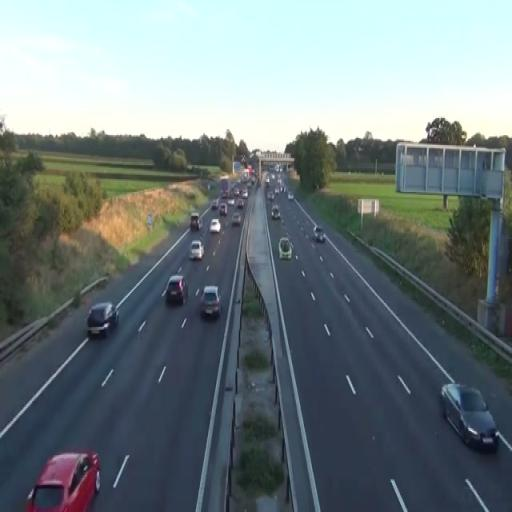Car: (24, 448, 102, 512), (440, 383, 498, 452), (86, 302, 120, 337), (200, 285, 222, 319), (165, 274, 188, 306), (278, 237, 292, 261), (190, 239, 204, 262), (190, 211, 202, 231), (313, 226, 325, 242), (210, 219, 220, 233), (232, 214, 242, 228), (272, 204, 280, 220), (219, 203, 227, 217)
